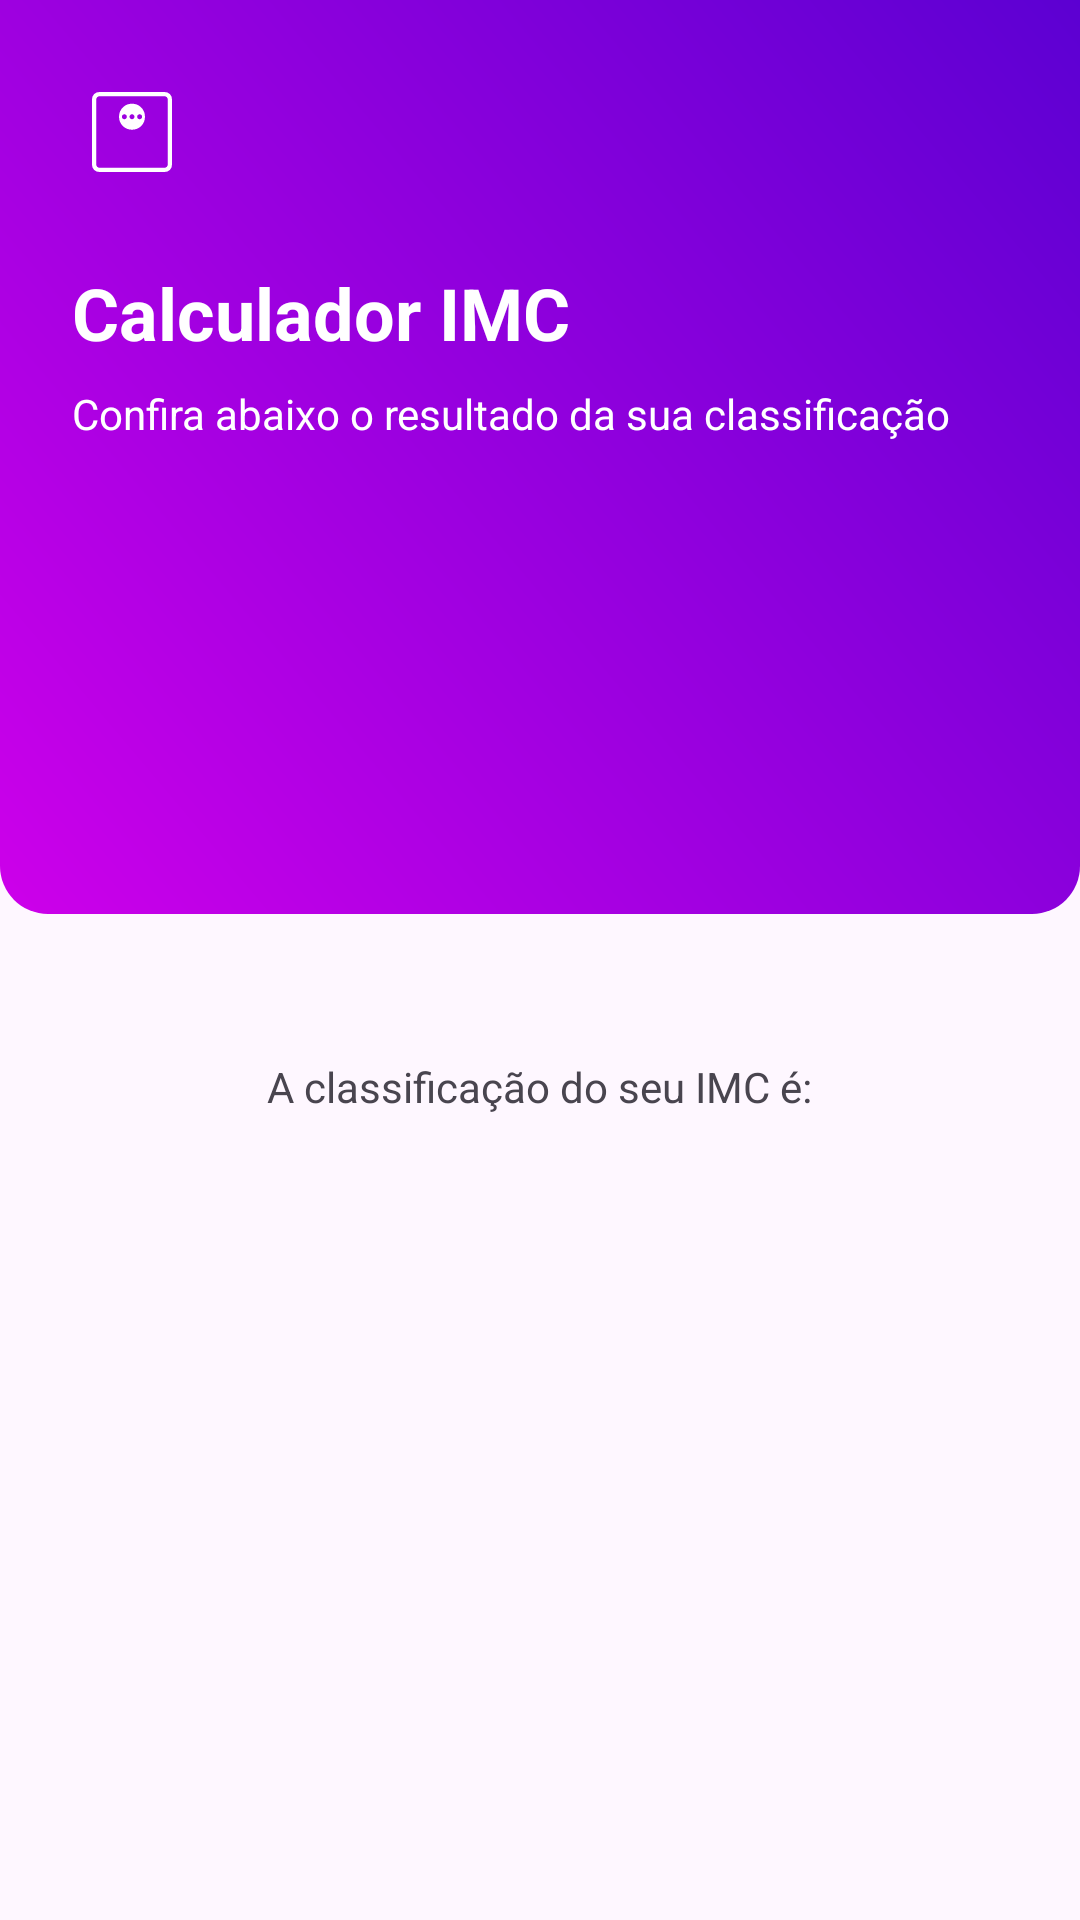

Named icons in this screenshot (1080×1920) and their bounding boxes, region(x1, y1, x2, y2):
weight: region(92, 92, 172, 172)
